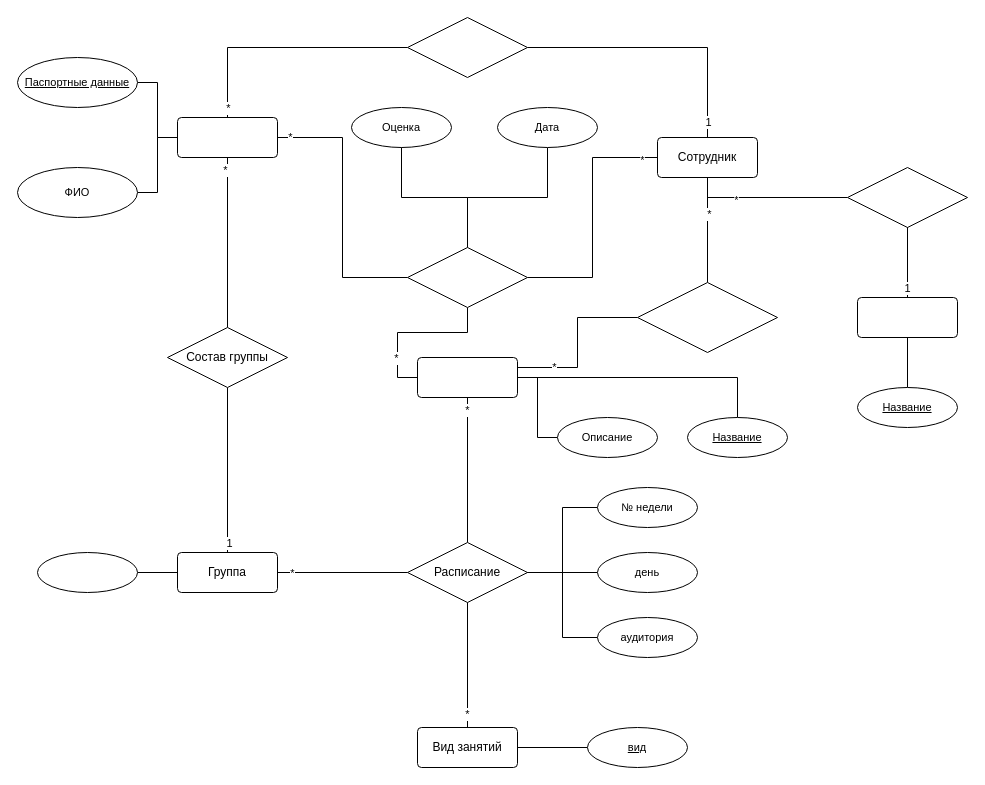
Some shapes in this 985 by 785 pixel diagram are drawn without their labels. The box of each missing label's shape, as (x1, y1, x2, y2) in pixels:
Деканат: (406, 16, 528, 78)
Должность: (856, 296, 958, 338)
Должность сотрудника: (846, 166, 968, 228)
Название предмета: (636, 282, 778, 352)
Номер группы: (36, 552, 138, 592)
Оценивание: (406, 246, 528, 308)
Предмет: (416, 356, 518, 398)
Студент: (176, 116, 278, 158)
